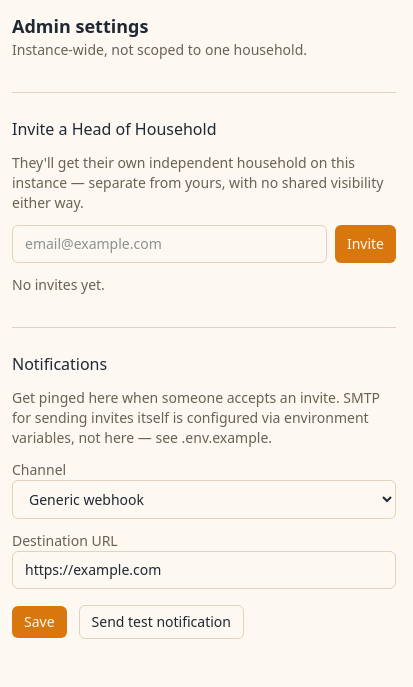
Scenario: AdminSettingsPage › sends a test notification once a provider is already configured
The image size is (413, 687).
Click the button "Send test notification".
click(161, 622)  # box [79,605,244,639]
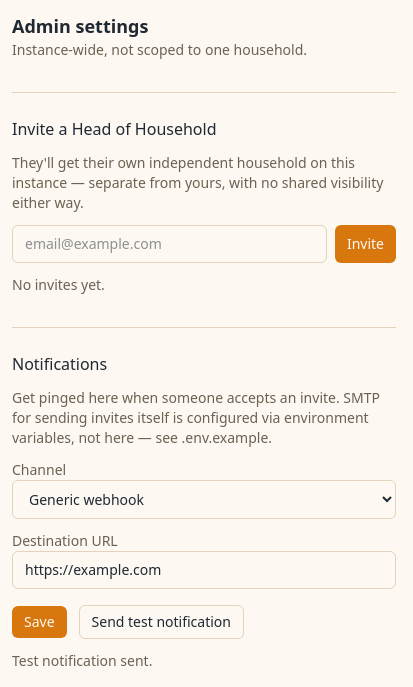
Expected: the text "Test notification sent." is shown, [12,651,152,670]
